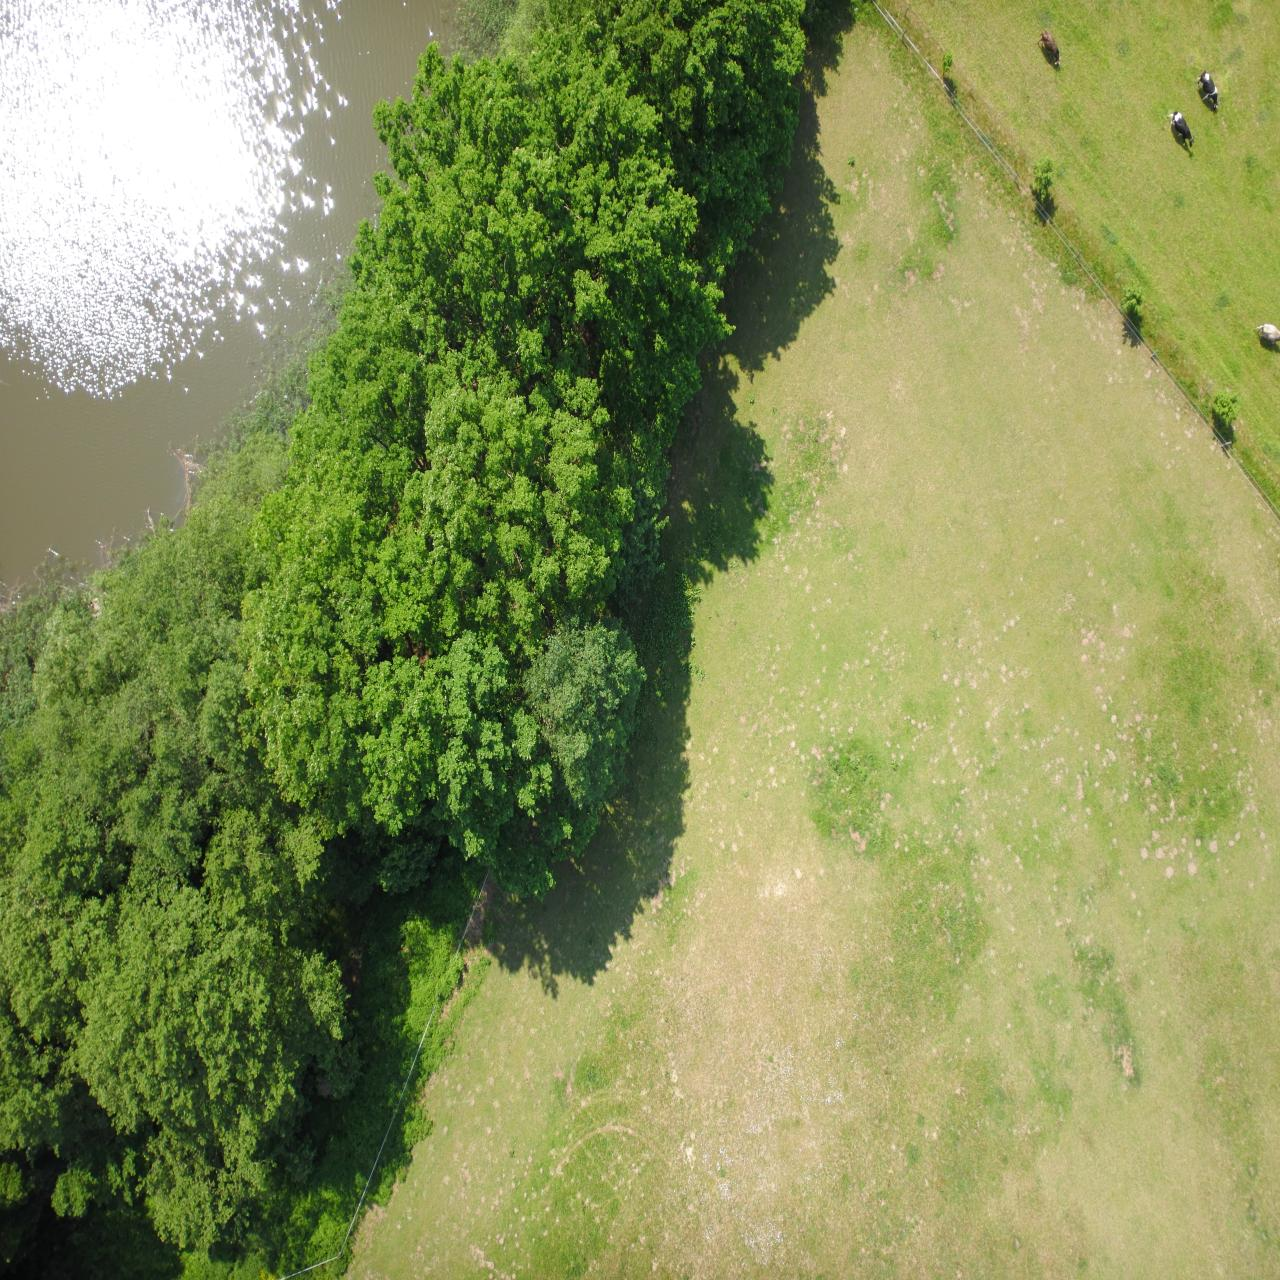cow: (86, 1133, 111, 1167), (60, 1172, 83, 1208), (220, 1213, 241, 1251)
